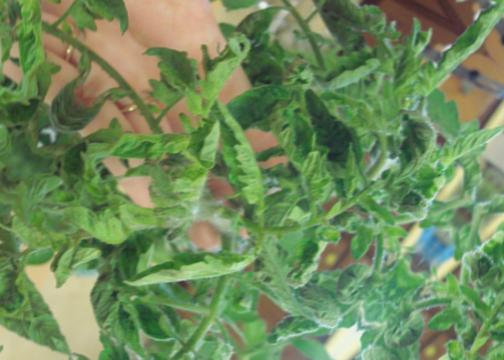Tomato leaf mosaic virus: (128, 199, 265, 337), (172, 102, 306, 233), (251, 94, 346, 187), (100, 100, 193, 194), (260, 299, 323, 360), (77, 325, 144, 360)
